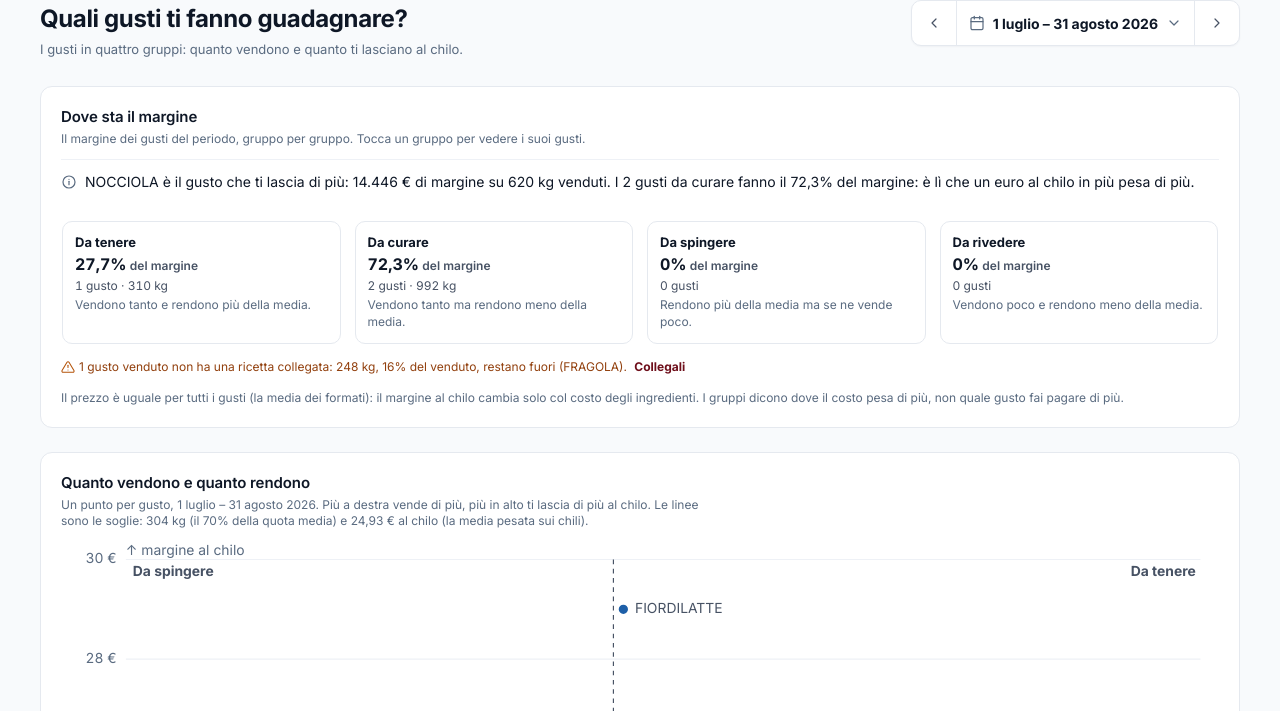
collegare i gusti senza ricetta sul posto › scelta la ricetta e confermato, il gusto entra nella matrice
Expected: the table "Gusti per margine" does not show "FRAGOLA"
Click the button "Collegali": (660,367) [630,345,689,389]
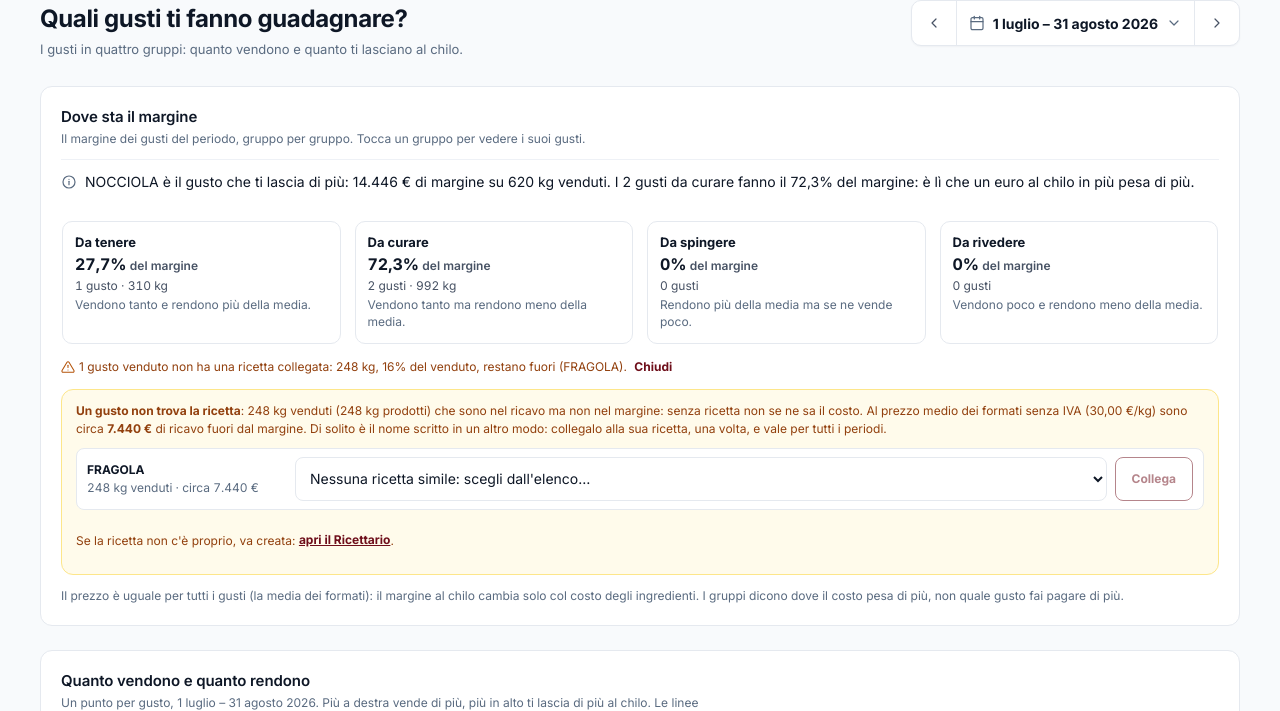
Select "PISTACCHIO" in the dropdown named "Ricetta di FRAGOLA": (701,479) [295,457,1107,501]
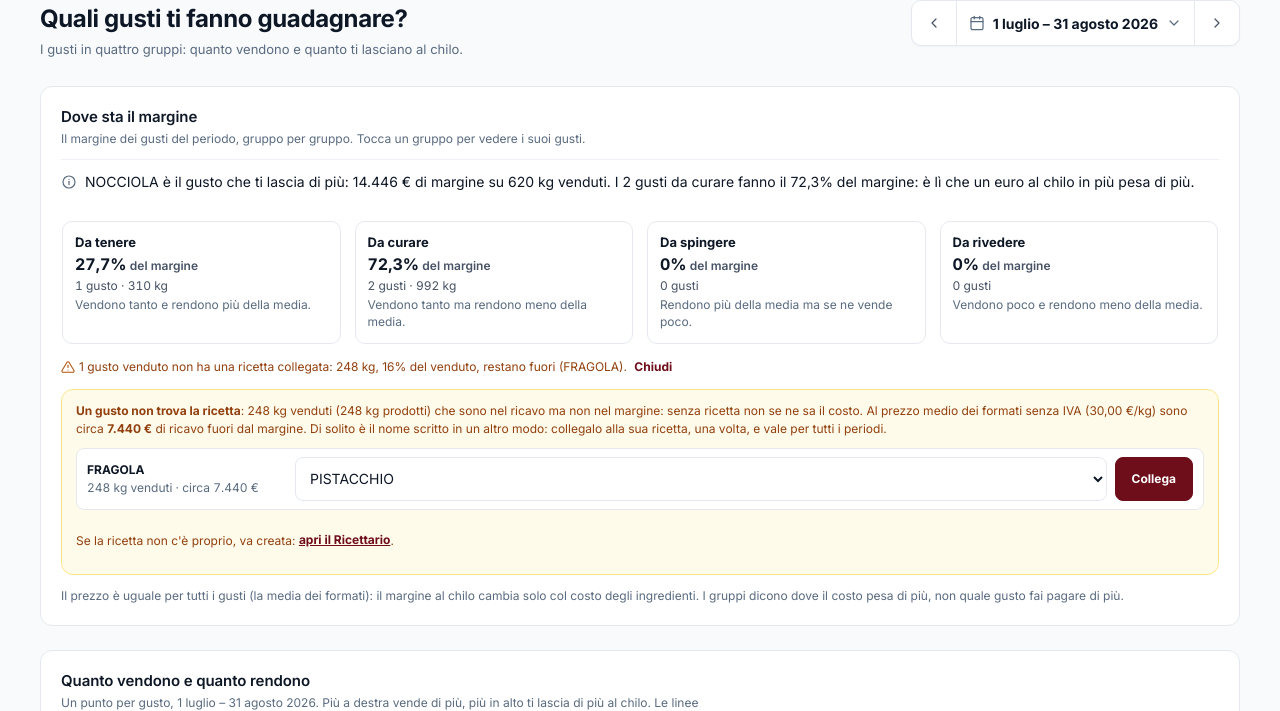
Click the button "Collega": (1154,479) [1115,457,1193,501]
(page scrolled)
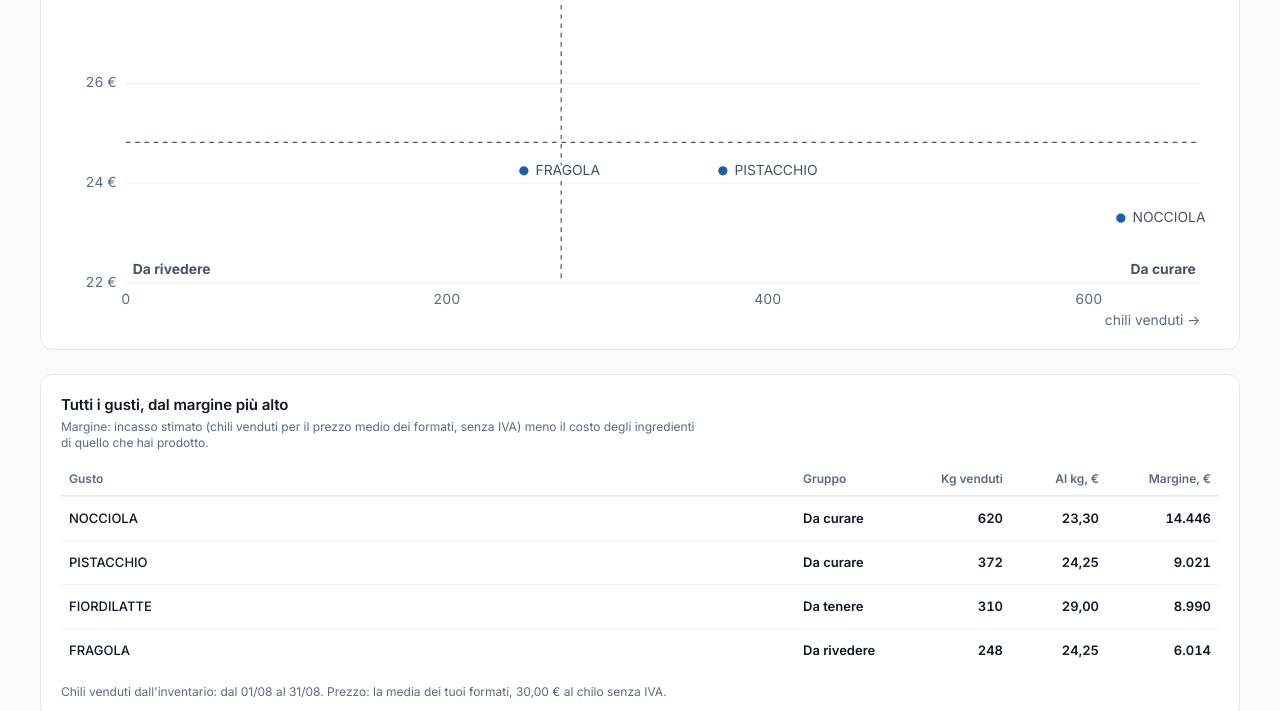
Now the table named "Gusti per margine" shows "FRAGOLA", box [69,642,130,658]
Now the text "gusto venduto non ha una ricetta" is gone
